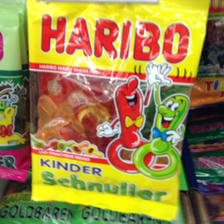candy: (26, 3, 203, 219)
